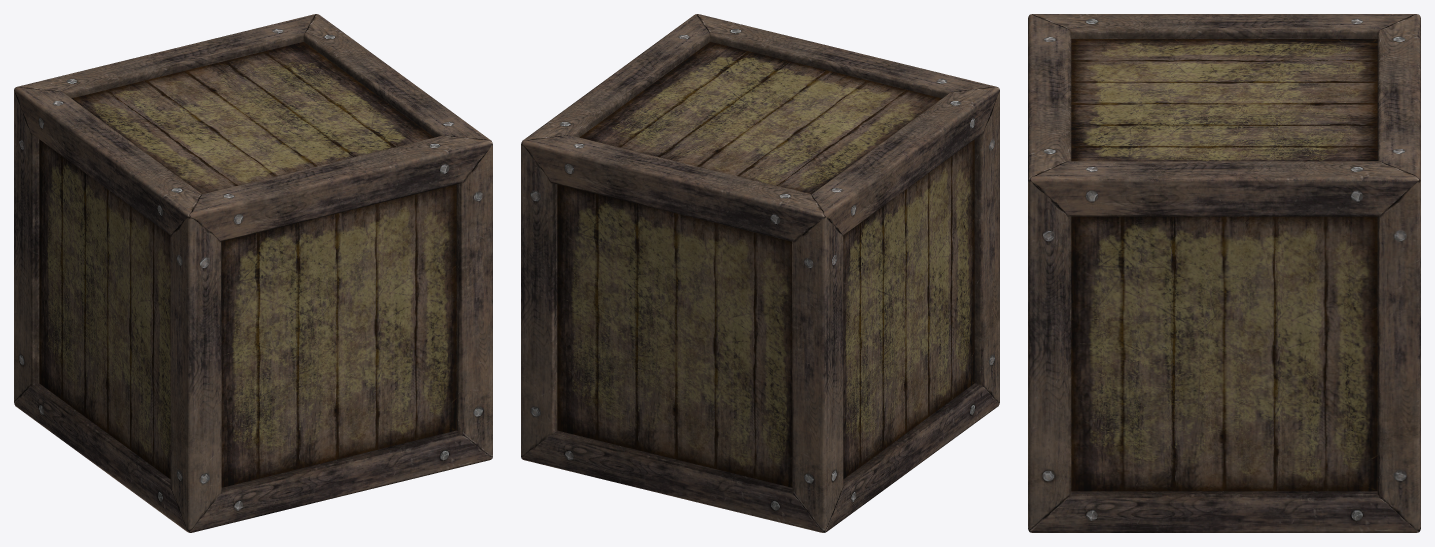
File: box_crate.glb
The picture shows the model from 3 angles, left to right: view 1: azimuth 30°, elevation 25°; view 2: azimuth 150°, elevation 25°; view 3: azimuth 270°, elevation 25°; orthographic projection. The views are drawn at different scales.
Parts seen in each view (by area): view 1: Crate_Crate_0; view 2: Crate_Crate_0; view 3: Crate_Crate_0.
Part boxes in pixels (x1,y1,x2,y2): Crate_Crate_0: (14,14,492,532); Crate_Crate_0: (521,14,999,532); Crate_Crate_0: (1028,14,1420,532).
Size of the model in its own units: 2 by 2 by 2.
1 material, 1 textured.
